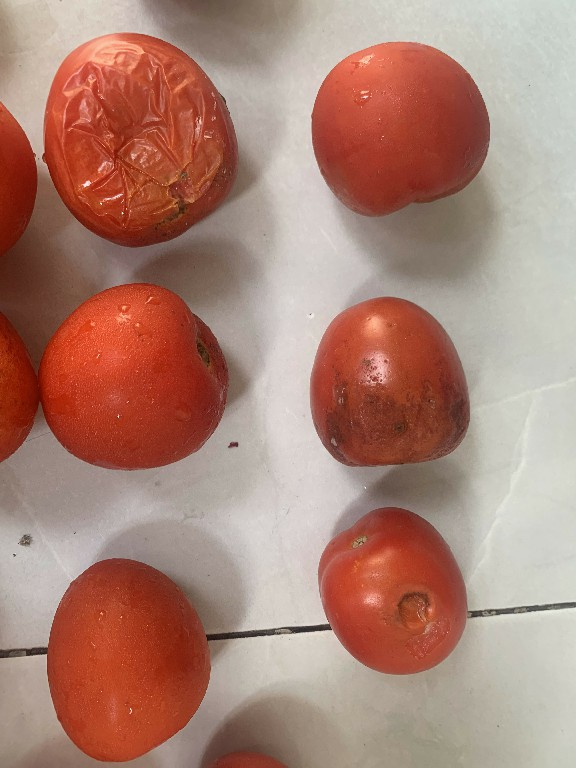NG: (34, 26, 244, 254), (306, 281, 473, 485), (291, 502, 478, 676)
OK: (29, 549, 224, 768), (293, 34, 508, 226), (28, 277, 234, 473)
